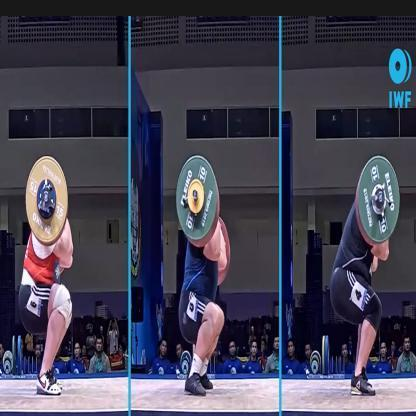barbell: (178, 155, 219, 246), (358, 154, 399, 244), (27, 157, 69, 243)
